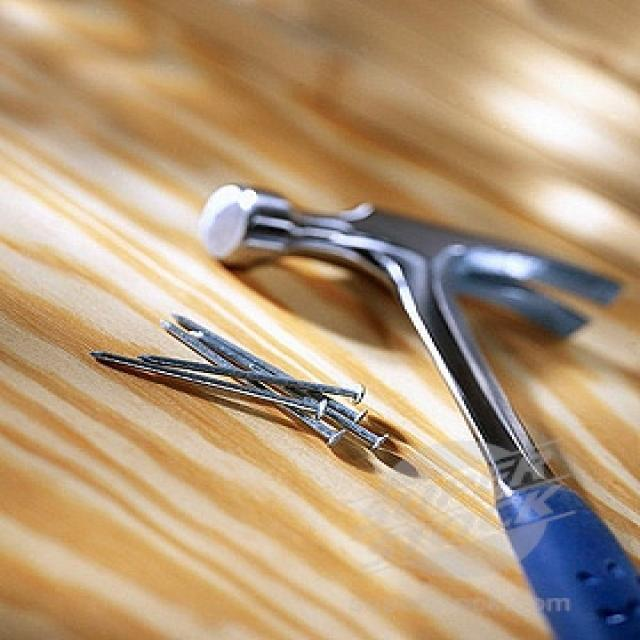hammer: (192, 177, 640, 634)
